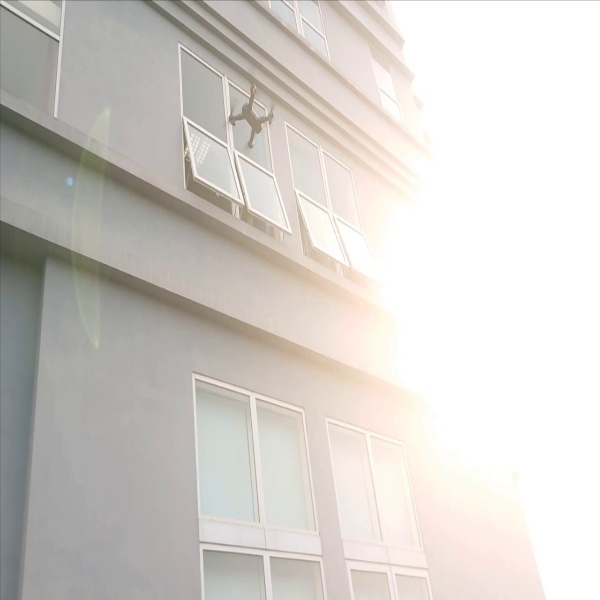drone: (225, 80, 279, 154)
